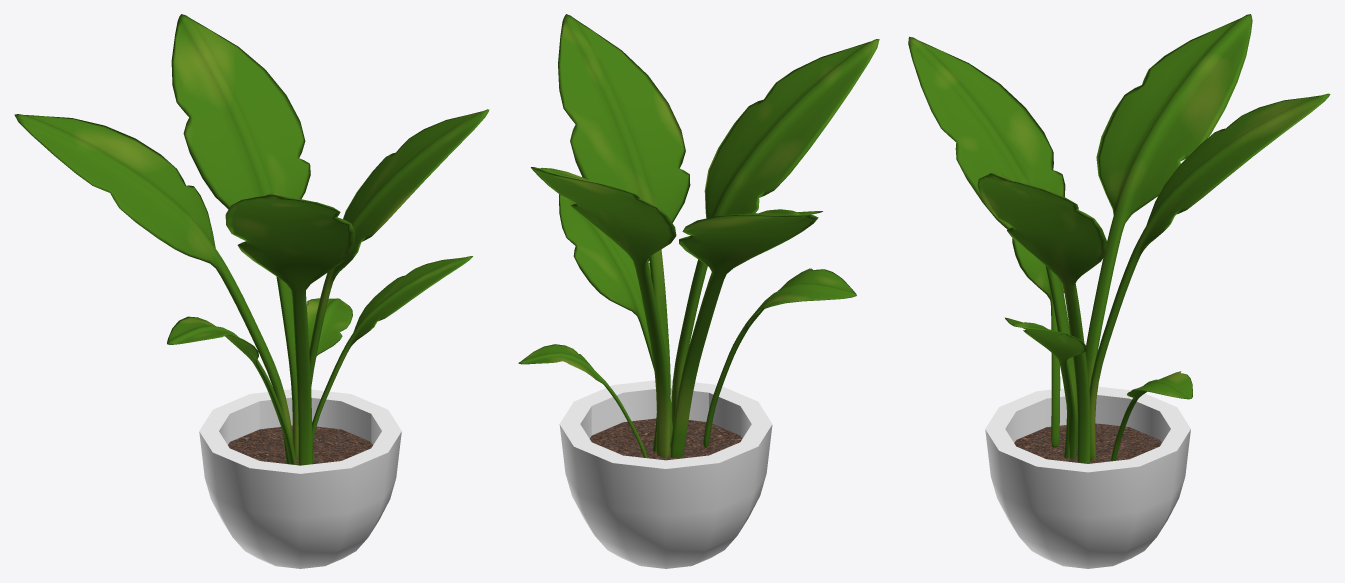
File: Plant.fbx
The picture shows the model from 3 angles, left to right: view 1: azimuth 30°, elevation 25°; view 2: azimuth 150°, elevation 25°; view 3: azimuth 270°, elevation 25°; orthographic projection. The views are drawn at different scales.
Parts seen in each view (by area): view 1: Cylinder, Cube.001, Cube.002, Cube.003, Cube.004, Cube.005, Cube.006, Cube.007; view 2: Cylinder, Cube.004, Cube.003, Cube.001, Cube.002, Cube.005, Cube.006, Cube.007; view 3: Cylinder, Cube.002, Cube.003, Cube.004, Cube.001, Cube.005, Cube.006, Cube.007.
Part boxes in pixels (x1,y1,x2,y2): Cylinder: (199,389,401,568); Cube.001: (171,14,310,459); Cube.002: (14,114,294,464); Cube.003: (225,193,355,465); Cube.004: (309,109,489,460); Cube.005: (312,256,472,448); Cube.006: (167,316,296,464); Cube.007: (306,298,352,356); Cylinder: (559,379,772,568); Cube.004: (558,14,690,452); Cube.003: (671,39,879,427); Cube.001: (531,167,676,457); Cube.002: (670,209,822,457); Cube.005: (559,194,672,447); Cube.006: (703,268,856,447); Cube.007: (518,344,647,458); Cylinder: (985,386,1190,568); Cube.002: (1085,14,1252,388); Cube.003: (908,36,1077,458); Cube.004: (977,173,1107,463); Cube.001: (1089,93,1330,460); Cube.005: (1005,317,1086,458); Cube.006: (1012,238,1080,447); Cube.007: (1111,371,1192,461).
Size of the model in its own units: 397 by 487 by 410.
Materials: 1 (1 with a texture image).
